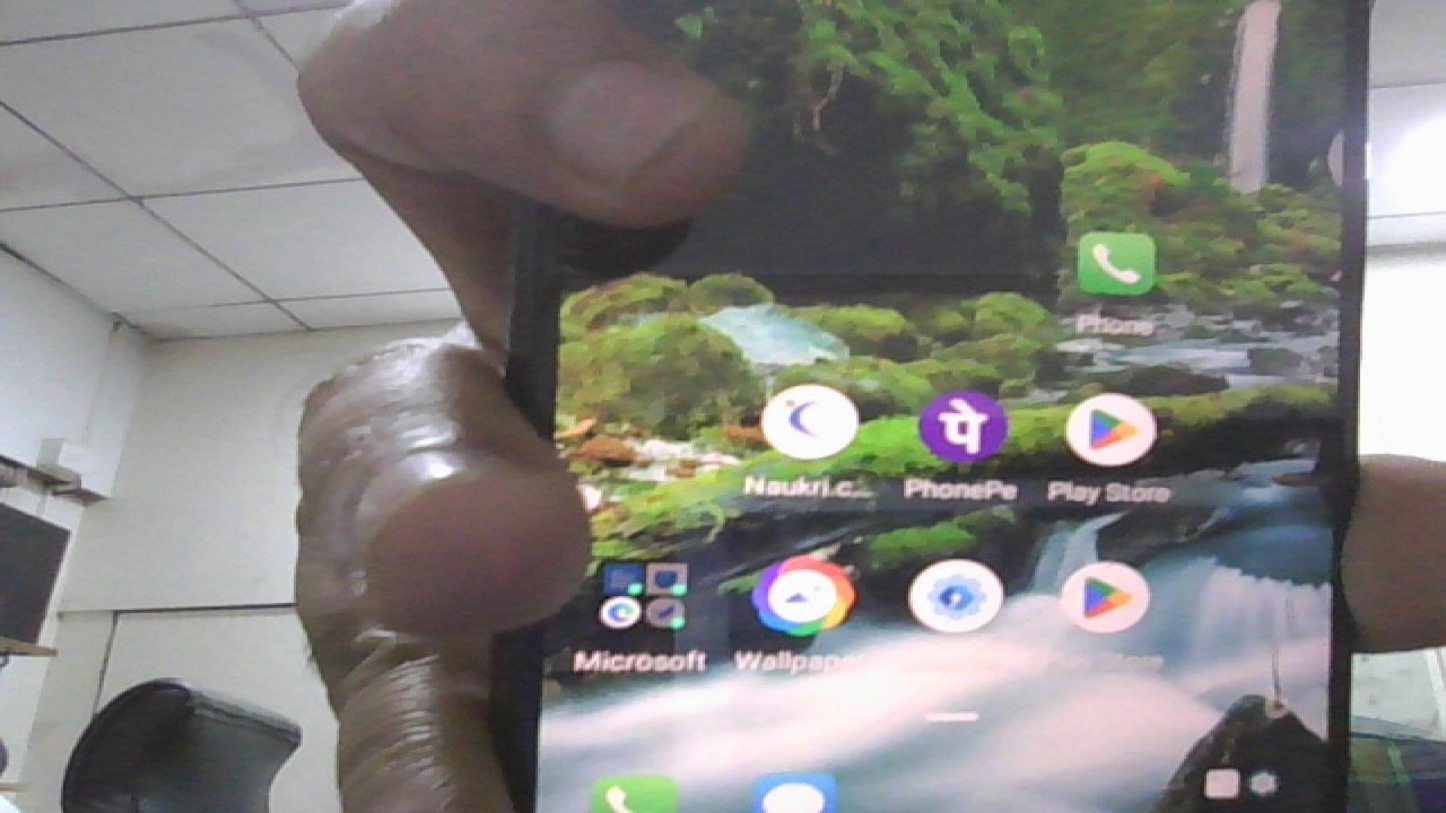phone: (517, 0, 1374, 805)
